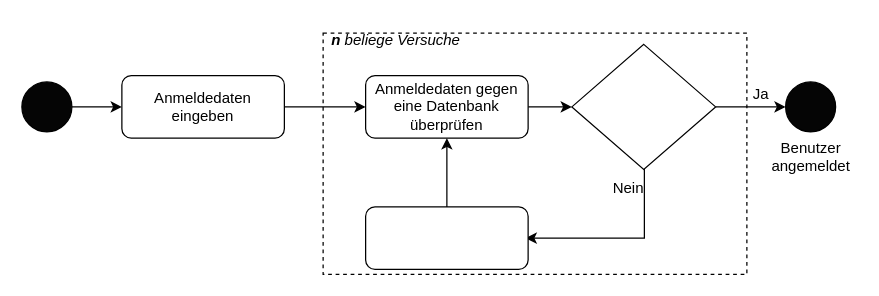
Some shapes in this 879 by 296 pixel diagram are drawn without their labels. Each missing label, with the box of its shape:
Anmeldedaten erneut eingeben: (364, 206, 528, 269)
Anmeldedaten korrekt: (571, 43, 716, 169)
